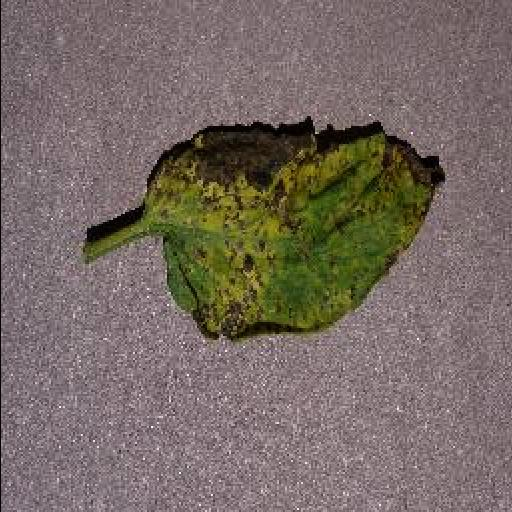disease_tomato: (144, 122, 442, 342)
